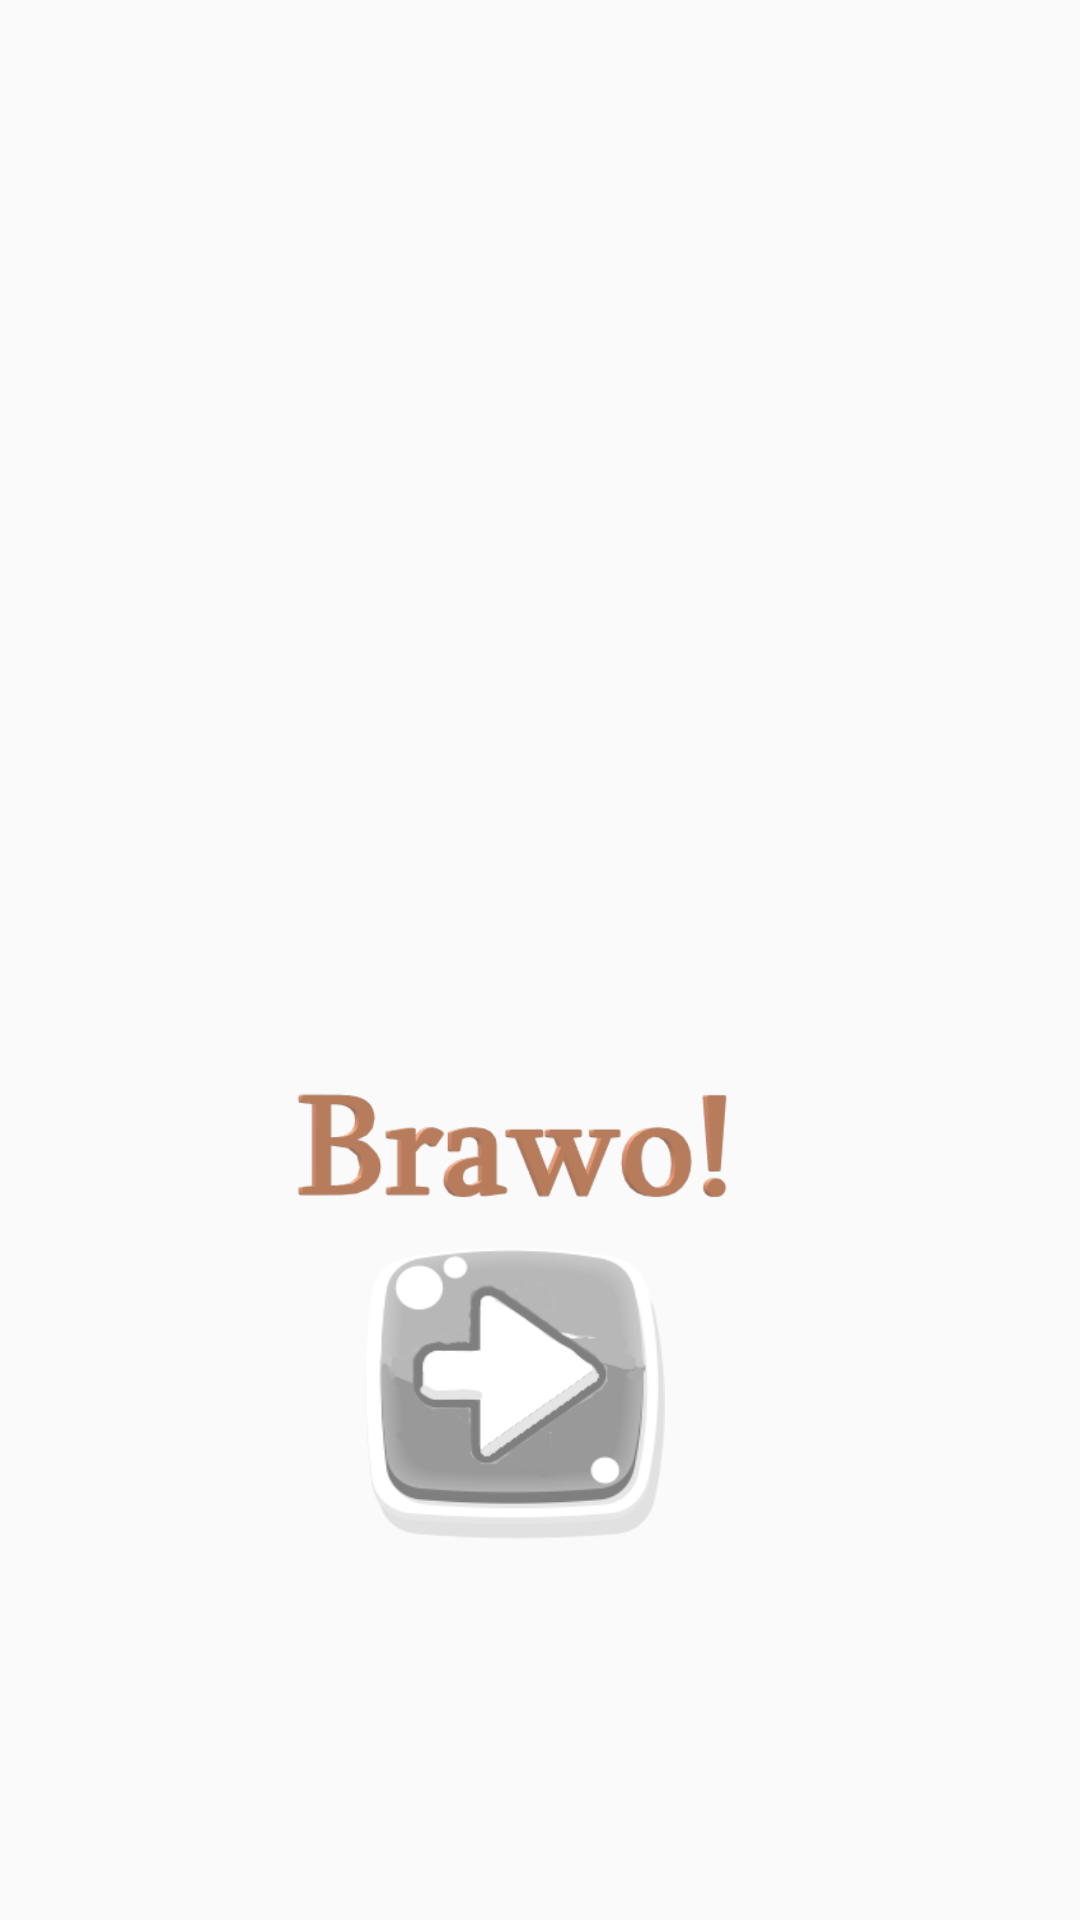

Named icons in this screenshot (1080×1920) and their centers, (x=x, y=y):
next: (x=521, y=1394)
